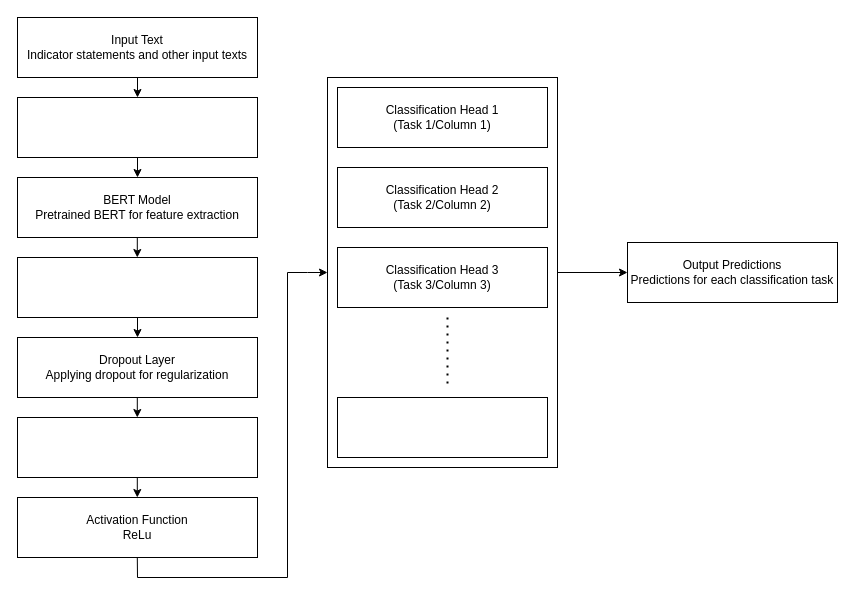
This 855x603 diagram has some shape labels left out. Here are the shapes that lost their labels. From the top down, the box of each, then its label:
(16, 96, 258, 158): BERT Tokenization Tokenizing input text into BERT tokens
(16, 256, 258, 318): [CLS] Token Output Extracting the [CLS] token output
(16, 416, 258, 478): Hidden Layer A dense layer for feature processing
(336, 396, 548, 458): Classification Head N (Task N/Column N)
